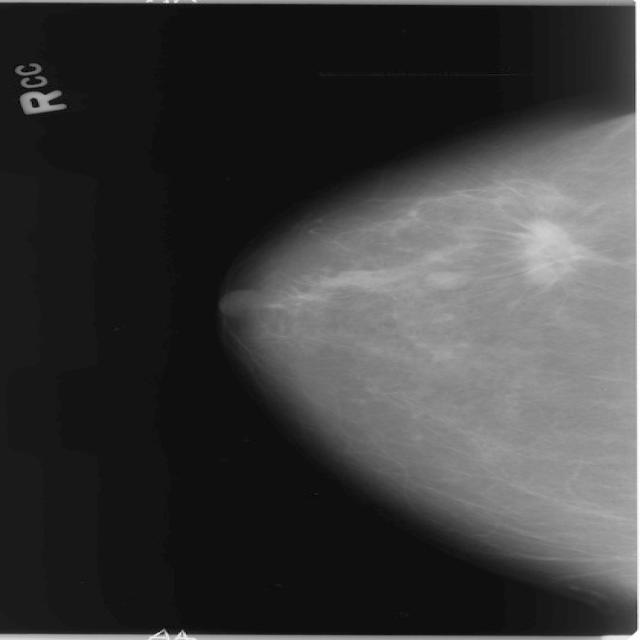tumour: (518, 218, 588, 287), (420, 270, 472, 288)
